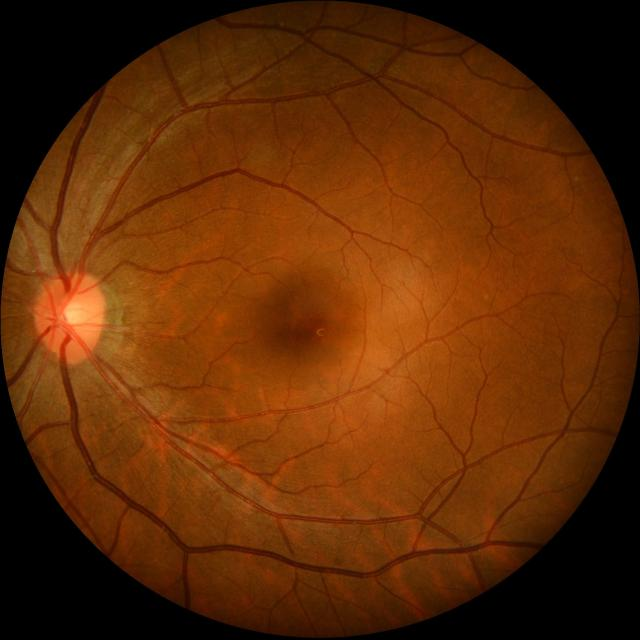OC: (58, 296, 89, 332)
OD: (36, 271, 106, 363)
